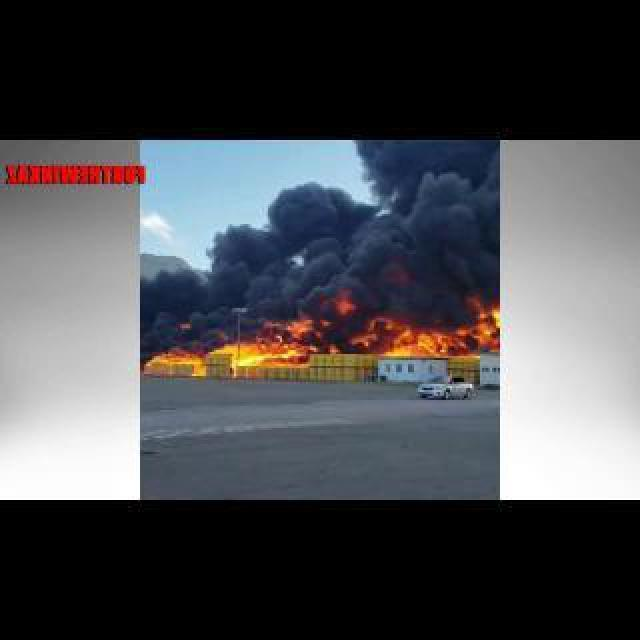Fire: (374, 312, 494, 356), (146, 336, 310, 364), (258, 314, 338, 336)
Smoke: (142, 144, 500, 312)
